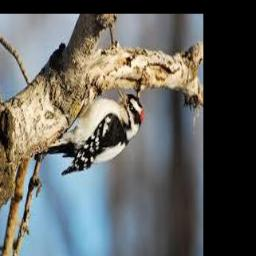Woodpecker: (41, 86, 143, 176)
